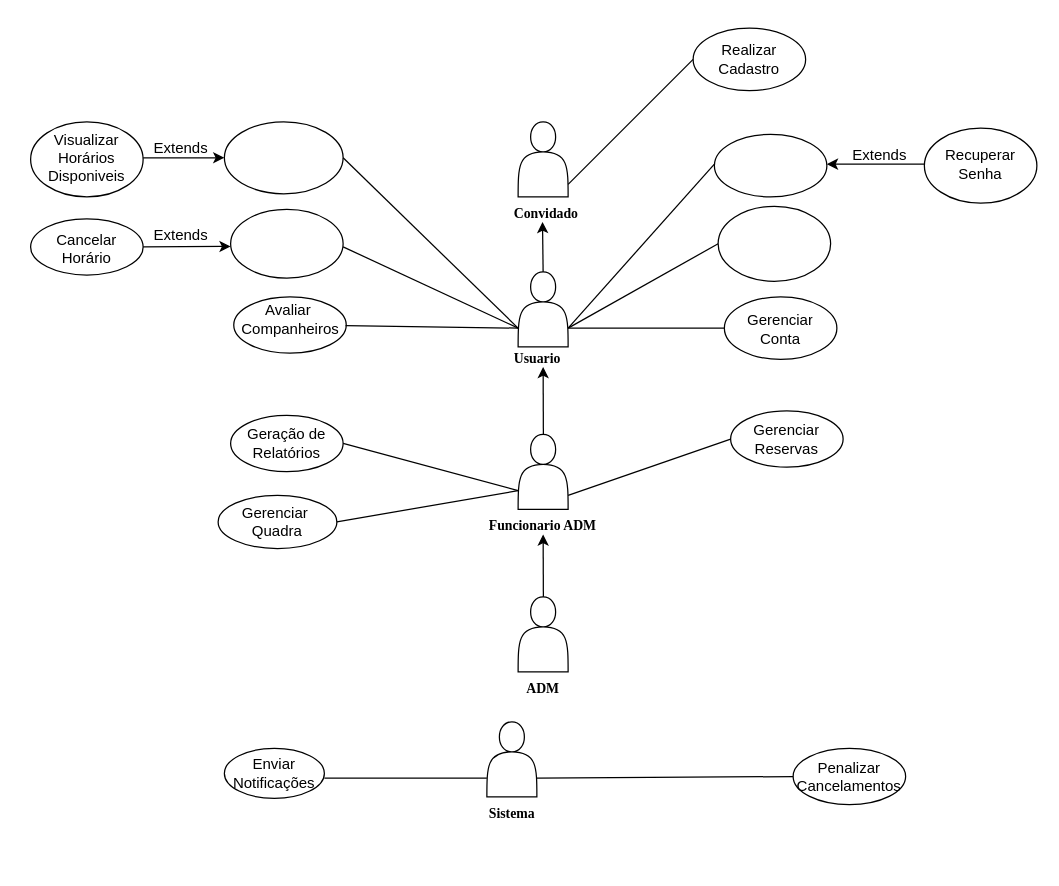
This 1059x886 diagram has some shape labels left out. The shapes that lost their labels are listed below. From the top down, each one's box as (x1, y1, x2, y2) in pixels, then its label:
(223, 121, 343, 194): Reservar Horário
(713, 133, 827, 197): Fazer Login
(229, 208, 343, 278): Visualizar Horários Agendados
(717, 205, 831, 281): Fazer Logout
